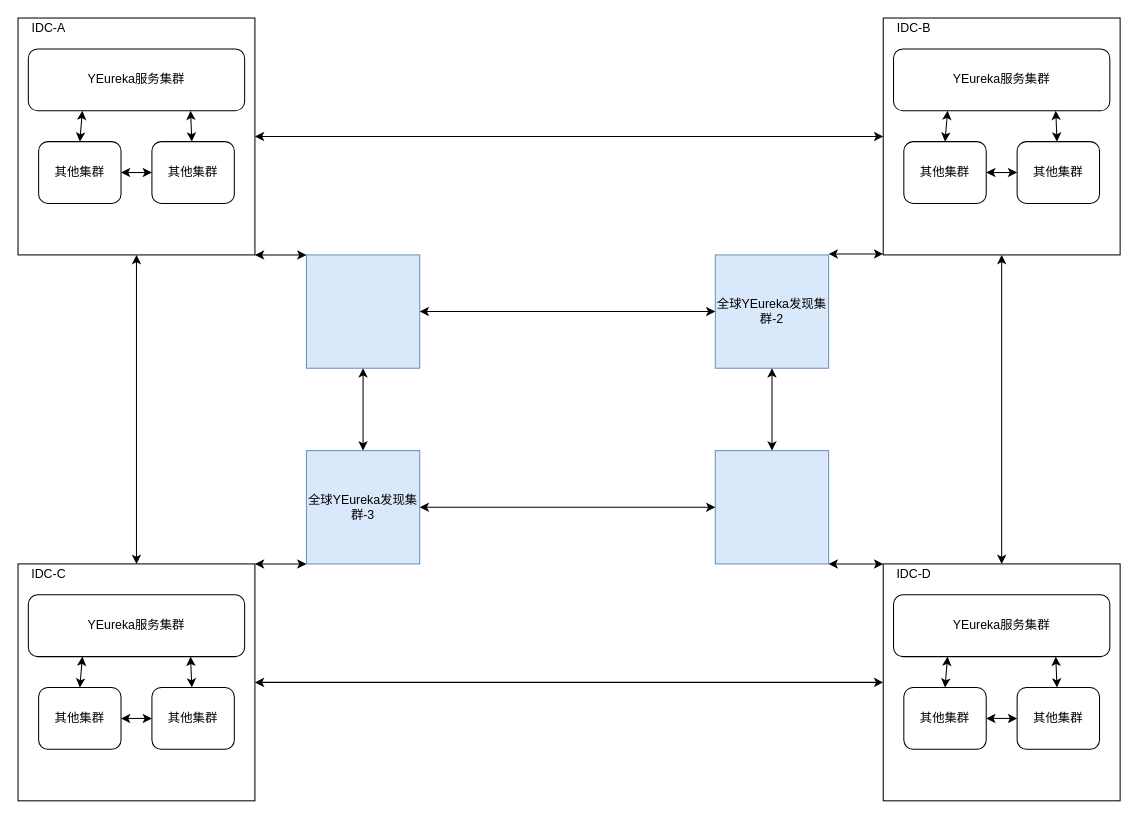
Some shapes in this 1138 by 819 pixel diagram are drawn without their labels. Here are the shapes that lost their labels. From the top down, the centre of each, then its label:
At point (362, 311): "全球YEureka发现集群-1".
At point (771, 507): "全球YEureka发现集群-4".
